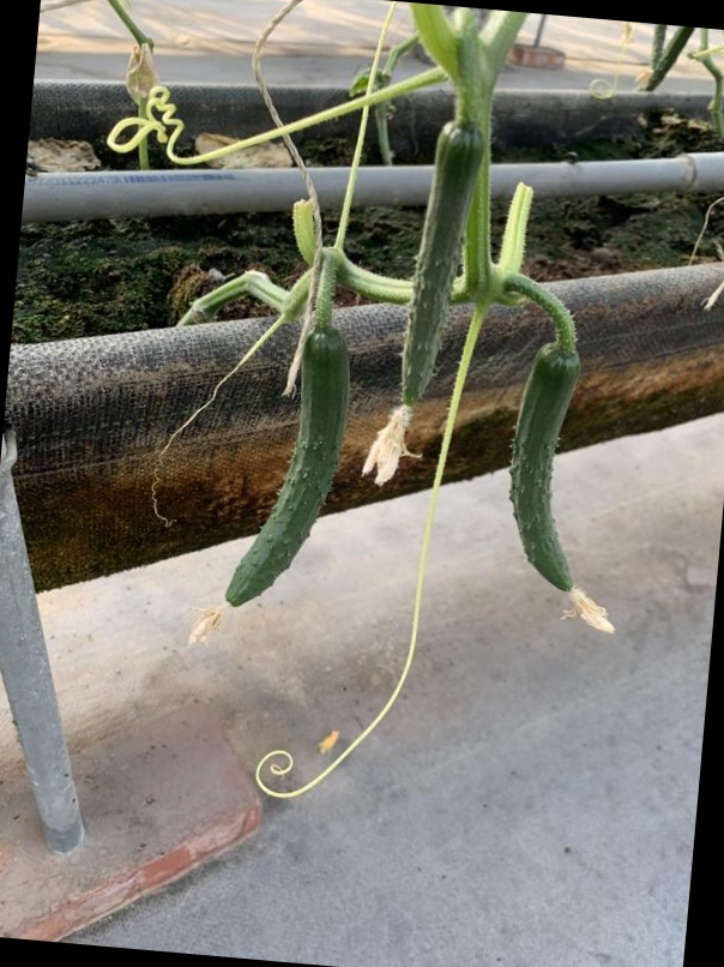growth: (374, 114, 484, 499)
mature: (204, 323, 353, 622), (513, 344, 616, 629)
